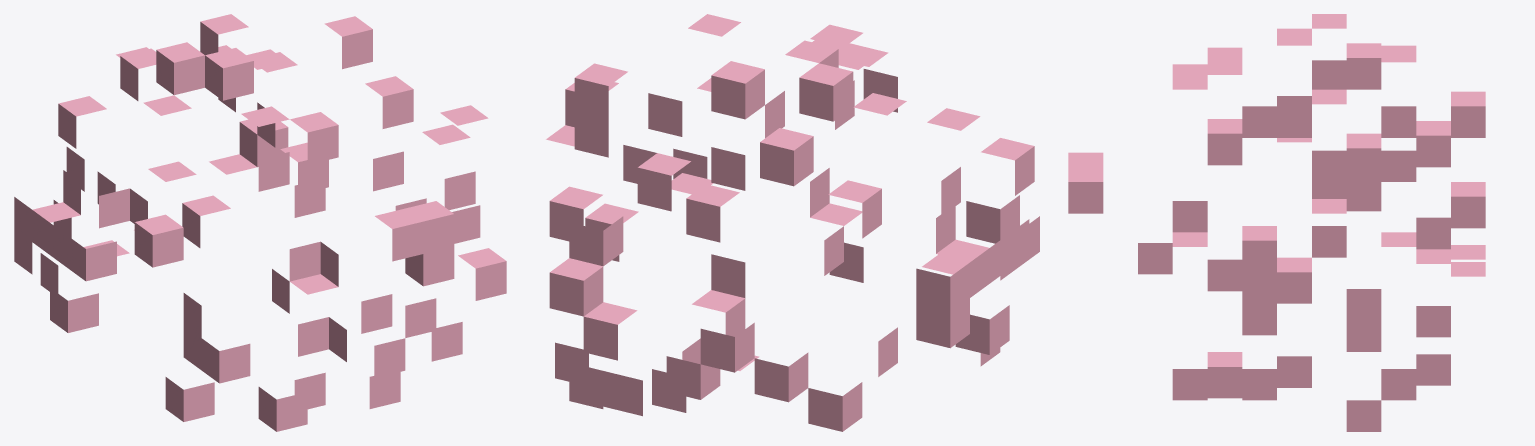
Rendered from tree-cherry-0p9-pink1-ffb7ce.gltf.
3 views of the same model, side by side, from view 1: azimuth 30°, elevation 25°; view 2: azimuth 150°, elevation 25°; view 3: azimuth 270°, elevation 25° (orthographic). The views are drawn at different scales.
Visible parts, largest first — view 1: tree-cherry-0p9-pink1-ffb7ce; view 2: tree-cherry-0p9-pink1-ffb7ce; view 3: tree-cherry-0p9-pink1-ffb7ce.
Boxes of the visible parts, box(x1,y1,x2,y2) form: tree-cherry-0p9-pink1-ffb7ce: box(14, 14, 506, 431); tree-cherry-0p9-pink1-ffb7ce: box(546, 14, 1039, 431); tree-cherry-0p9-pink1-ffb7ce: box(1068, 14, 1485, 431).
Size of the model in its own units: 13 by 10 by 13.
